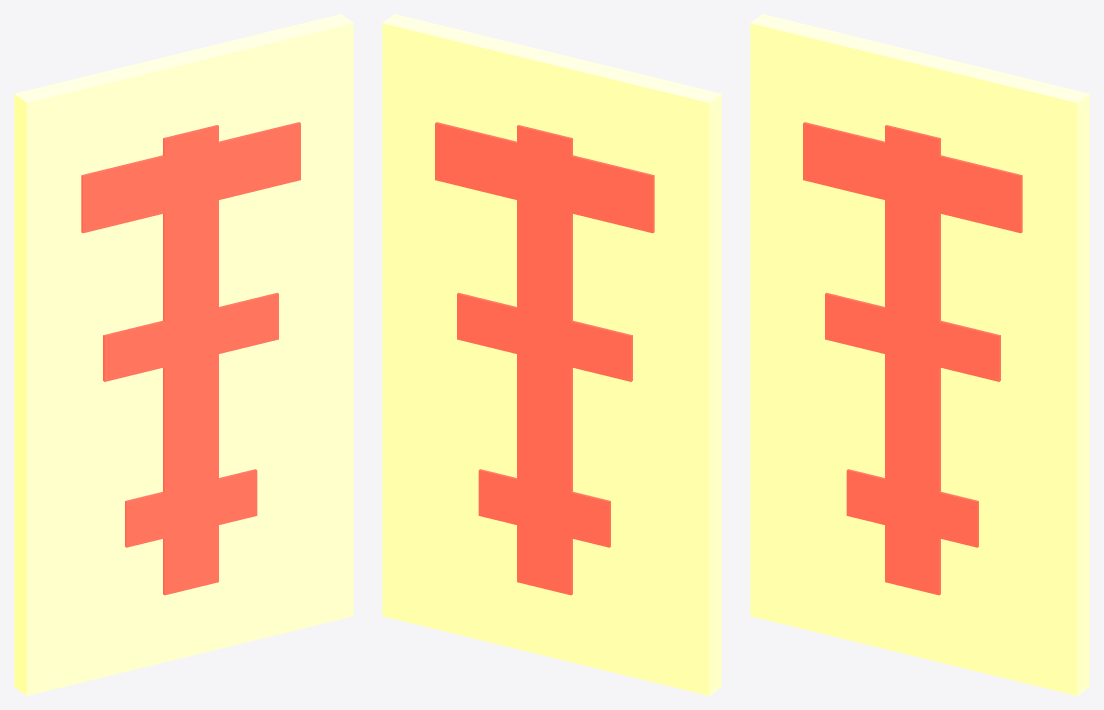
Rendered from talisman.glb.
3 views of the same model, side by side, from view 1: azimuth 30°, elevation 25°; view 2: azimuth 150°, elevation 25°; view 3: azimuth 330°, elevation 25° (orthographic).
Visible parts, largest first — view 1: Talisman; view 2: Talisman; view 3: Talisman.
Boxes of the visible parts, x1,y1,x2,y2 form: Talisman: (14,14,353,695); Talisman: (382,14,721,695); Talisman: (750,14,1089,695).
Bounding box in the file's own units: 0.3 × 0.52 × 0.025.
